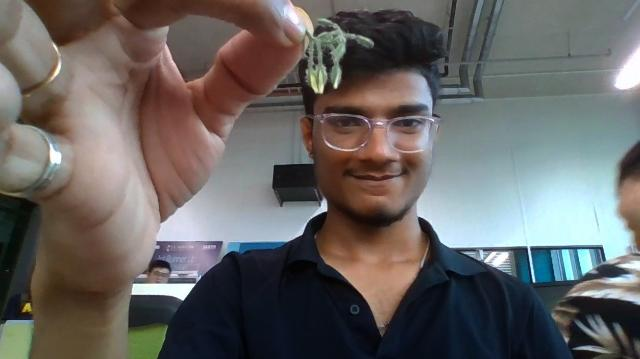Flower Bud: (308, 62, 326, 95), (341, 32, 375, 49), (331, 57, 342, 90)
